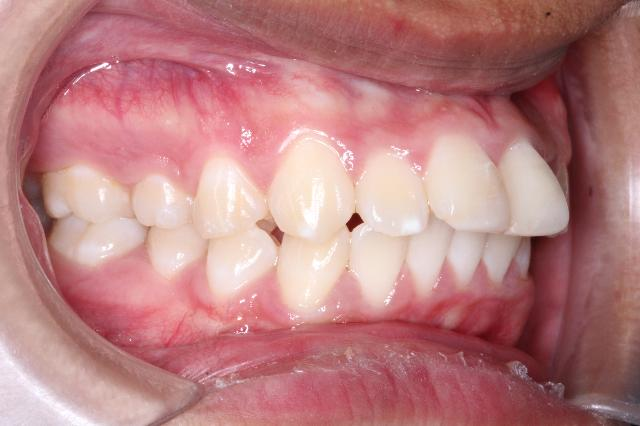canine class II 1/2: (206, 128, 356, 310)
molar class II 1/4: (35, 152, 149, 276)
